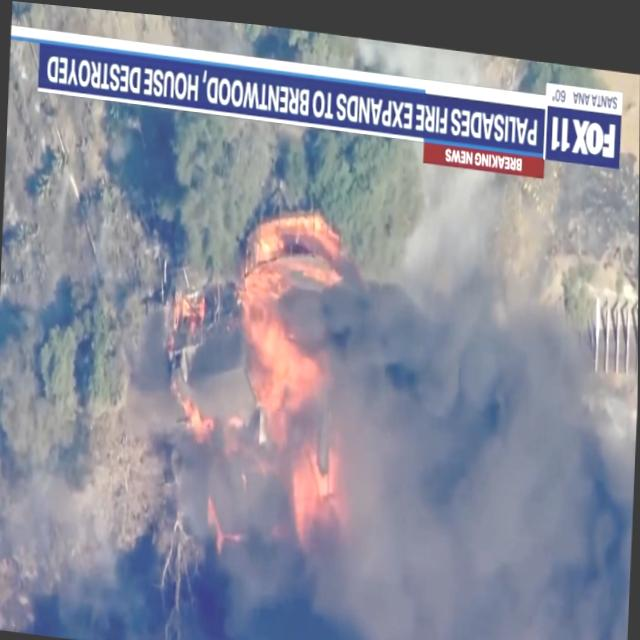no_helmet: (267, 278, 639, 640)
